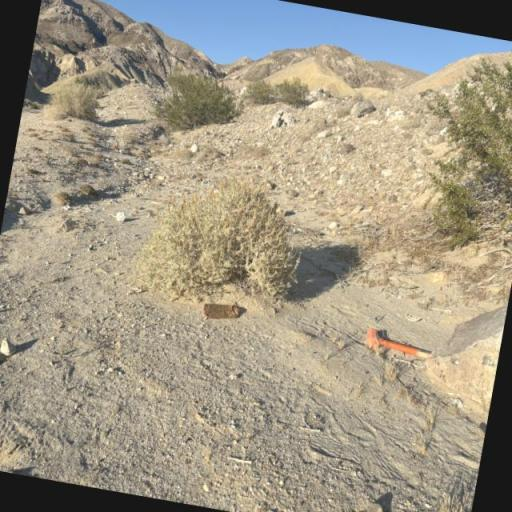mallet: (358, 322, 435, 368)
